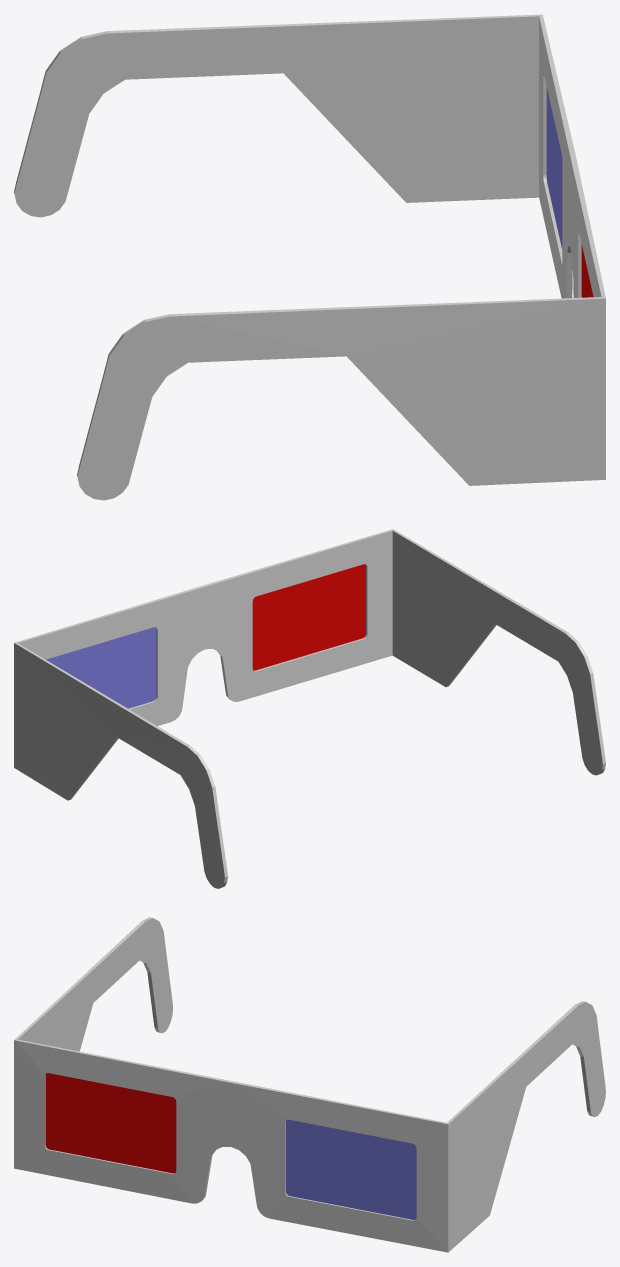
File: Glasses.gltf
The picture shows the model from 3 angles, top to bottom: view 1: azimuth 30°, elevation 25°; view 2: azimuth 150°, elevation 25°; view 3: azimuth 270°, elevation 25°; orthographic projection. The views are drawn at different scales.
Visible parts, largest first — view 1: Glasses; view 2: Glasses; view 3: Glasses.
Part boxes in pixels (box(x1,y1,x2,y2)): Glasses: box(14, 14, 605, 500); Glasses: box(14, 529, 605, 888); Glasses: box(14, 917, 605, 1252).
Size of the model in its own units: 1.86 by 0.486 by 2.03.
